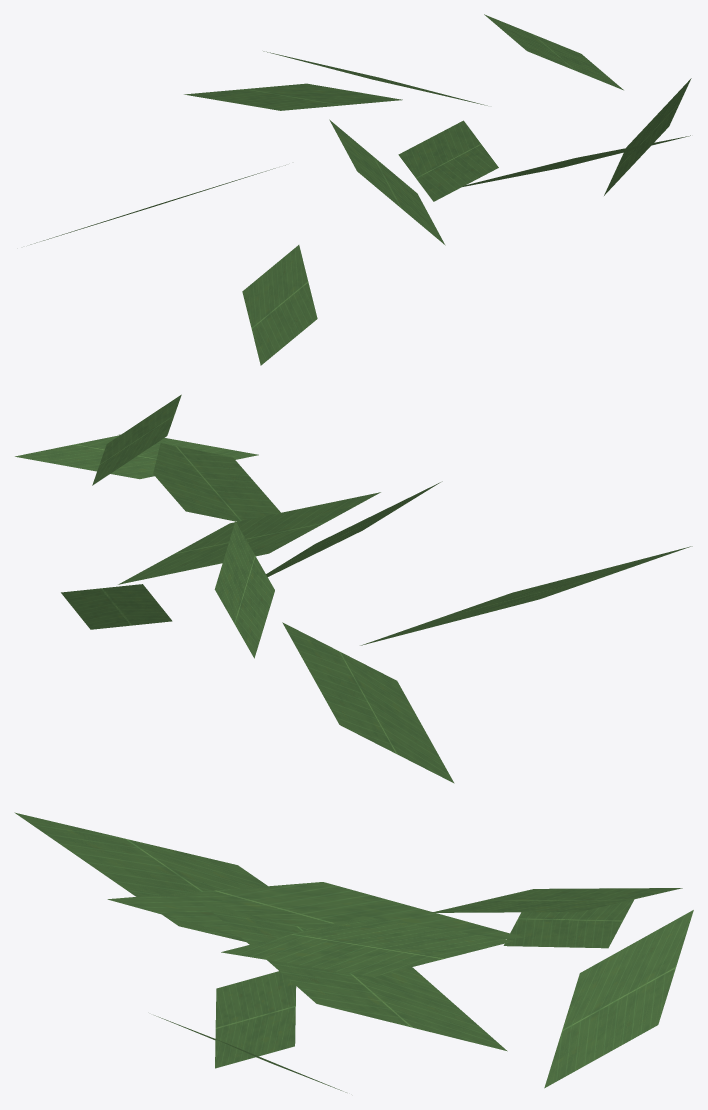
File: en-009_broadleaf_bush_set__medium.obj
The picture shows the model from 3 angles, top to bottom: view 1: azimuth 30°, elevation 25°; view 2: azimuth 150°, elevation 25°; view 3: azimuth 270°, elevation 25°; orthographic projection. The views are drawn at different scales.
Visible parts, largest first — view 1: en-009_broadleaf_bush_set__medium; view 2: en-009_broadleaf_bush_set__medium; view 3: en-009_broadleaf_bush_set__medium.
Boxes of the visible parts, box(x1,y1,x2,y2) form: en-009_broadleaf_bush_set__medium: box(30, 14, 691, 365); en-009_broadleaf_bush_set__medium: box(15, 394, 692, 783); en-009_broadleaf_bush_set__medium: box(14, 812, 693, 1092).
Bounding box in the file's own units: 1.53 × 0.4641 × 1.26.
1 material, 1 textured.
